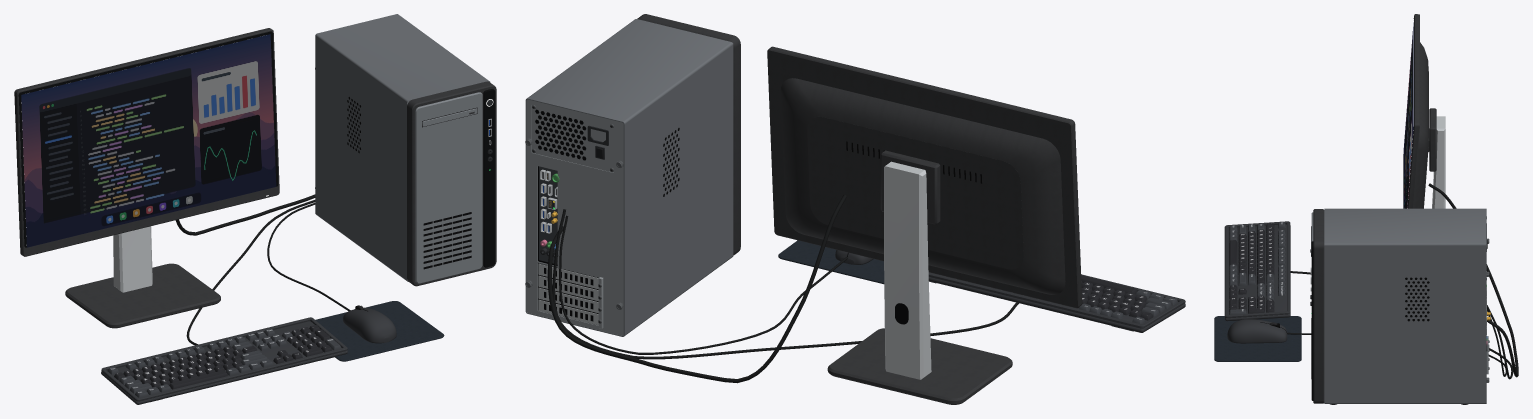
The model's file is desktop-computer-set.glb.
The picture shows the model from 3 angles, left to right: view 1: azimuth 30°, elevation 25°; view 2: azimuth 150°, elevation 25°; view 3: azimuth 270°, elevation 25°; orthographic projection. The views are drawn at different scales.
Visible parts, largest first — view 1: Monitor, Tower, Keyboard, Monitor_Stand, Mouse_Mat, Cables, Mouse; view 2: Tower, Monitor, Monitor_Stand, Keyboard, Cables, Mouse_Mat; view 3: Tower, Keyboard, Monitor, Mouse_Mat, Monitor_Stand, Cables, Mouse.
Boxes of the visible parts, box(x1,y1,x2,y2) form: Monitor: box(14, 28, 279, 256); Tower: box(315, 14, 496, 286); Keyboard: box(101, 317, 347, 404); Monitor_Stand: box(65, 226, 220, 328); Mouse_Mat: box(315, 301, 444, 361); Cables: box(175, 194, 350, 345); Mouse: box(343, 305, 396, 343); Tower: box(525, 14, 740, 336); Monitor: box(767, 46, 1082, 308); Monitor_Stand: box(827, 150, 1012, 404); Keyboard: box(928, 272, 1185, 332); Cables: box(547, 194, 1018, 383); Mouse_Mat: box(778, 240, 884, 284); Tower: box(1310, 208, 1490, 404); Keyboard: box(1224, 221, 1290, 321); Monitor: box(1403, 14, 1428, 208); Mouse_Mat: box(1214, 316, 1301, 361); Monitor_Stand: box(1428, 108, 1445, 208); Cables: box(1287, 183, 1518, 379); Mouse: box(1227, 319, 1287, 343).
Size of the model in its own units: 0.889 by 0.482 by 0.6259.
Materials: 29 (4 with a texture image).
